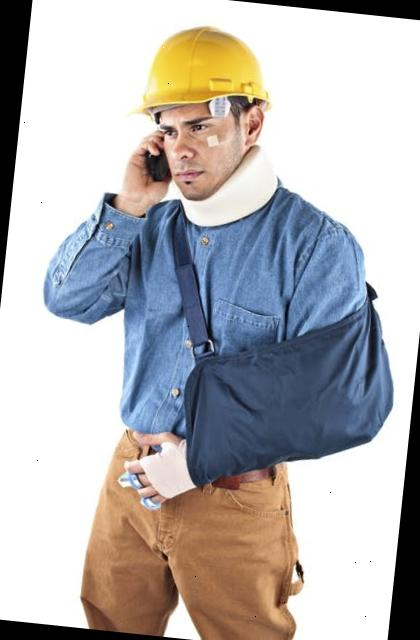helmet: (126, 16, 286, 130)
no_wear: (113, 182, 326, 456)
